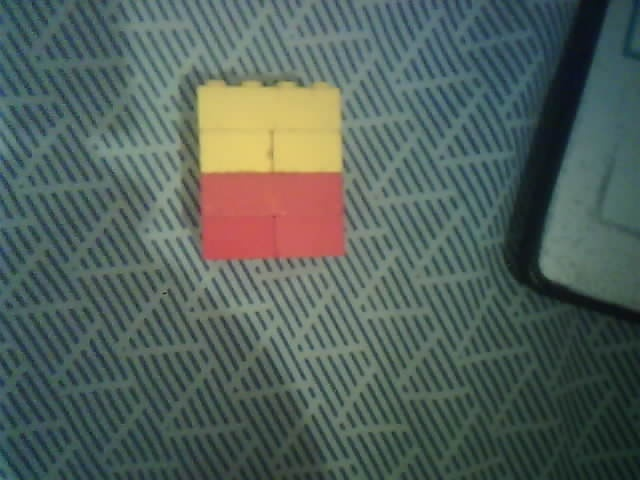lego: (192, 74, 348, 264)
